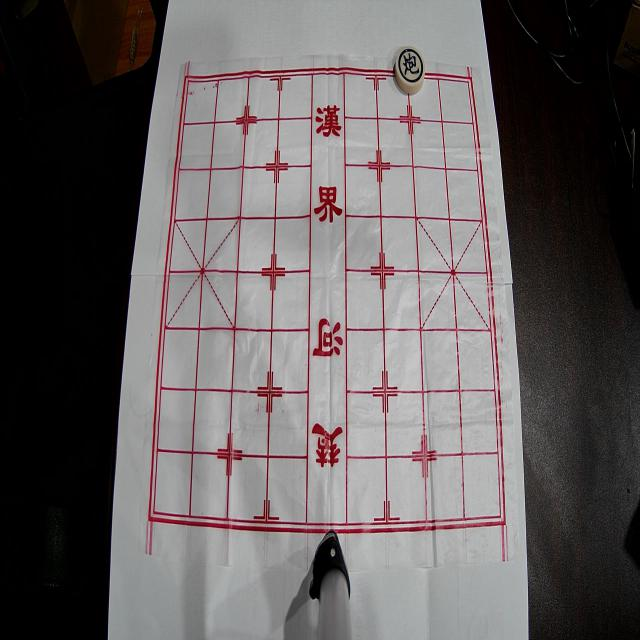black-cannon: (395, 46, 425, 94)
